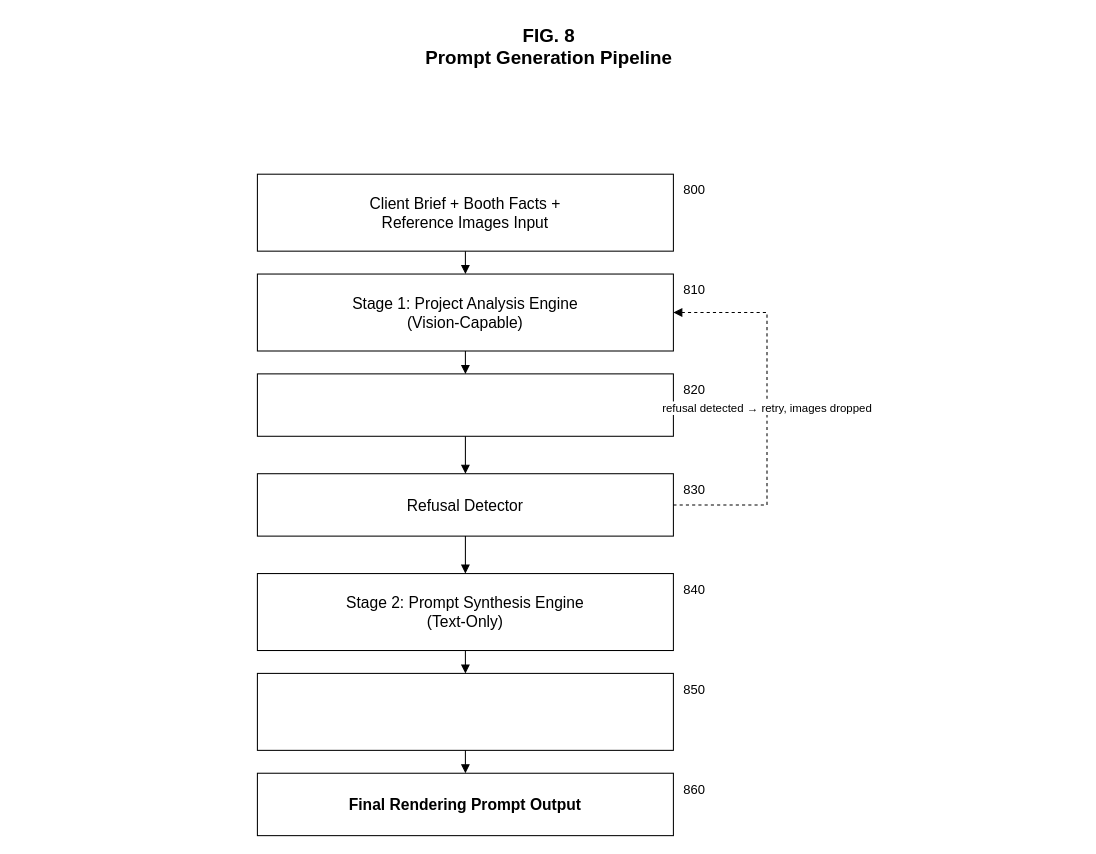
Some shapes in this 1096 by 854 pixel diagram are drawn without their labels. The centre of each missing label's shape, as x and y in pixels:
"Hard Constraints Appender (Dimensional & Orientation Locks)" belongs at (464,711).
"Structured Design Analysis (JSON)" belongs at (464,404).
